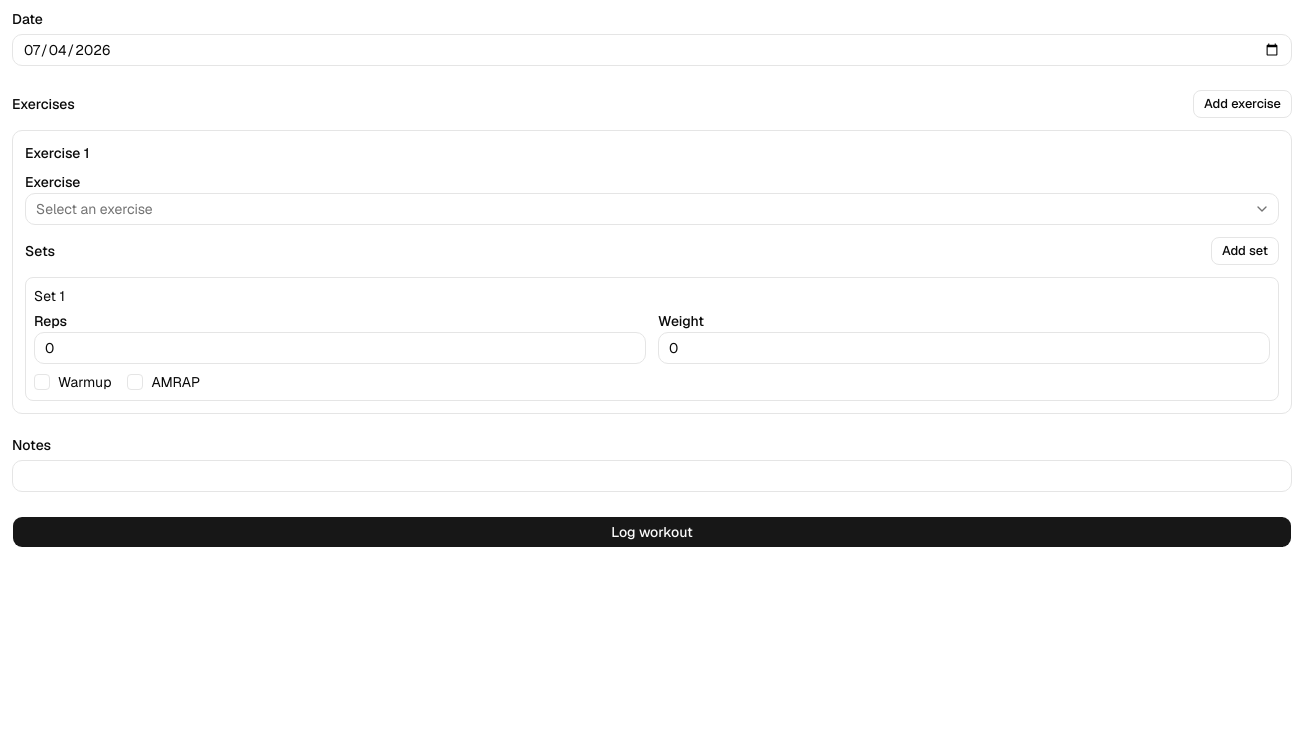
it: LogWorkoutForm › supports adding and removing both exercises and sets
Click the button "Add exercise": {"x": 1242, "y": 104} [1193, 90, 1292, 118]
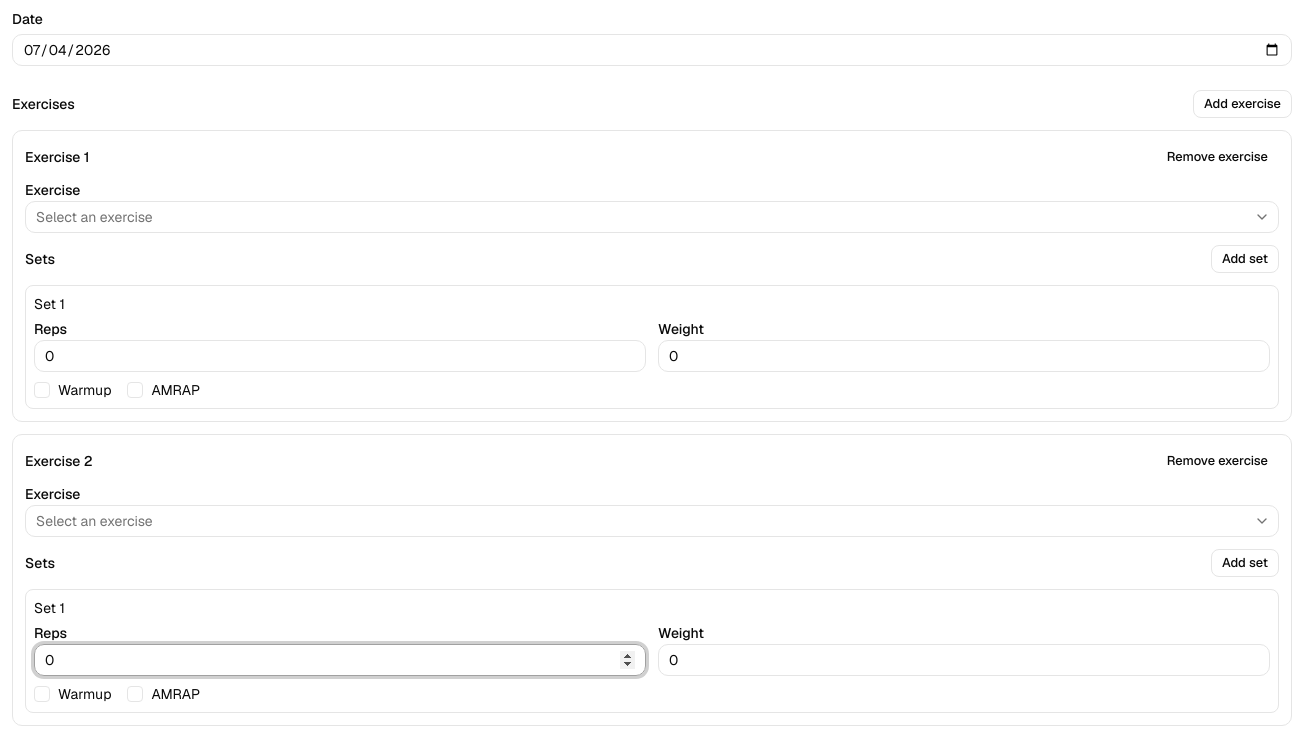
Now the text "Exercise 1" is shown 2 times, box [25, 147, 90, 167]; [25, 451, 93, 471]
Click the 1st button "Add set": {"x": 1245, "y": 259} [1211, 245, 1279, 273]
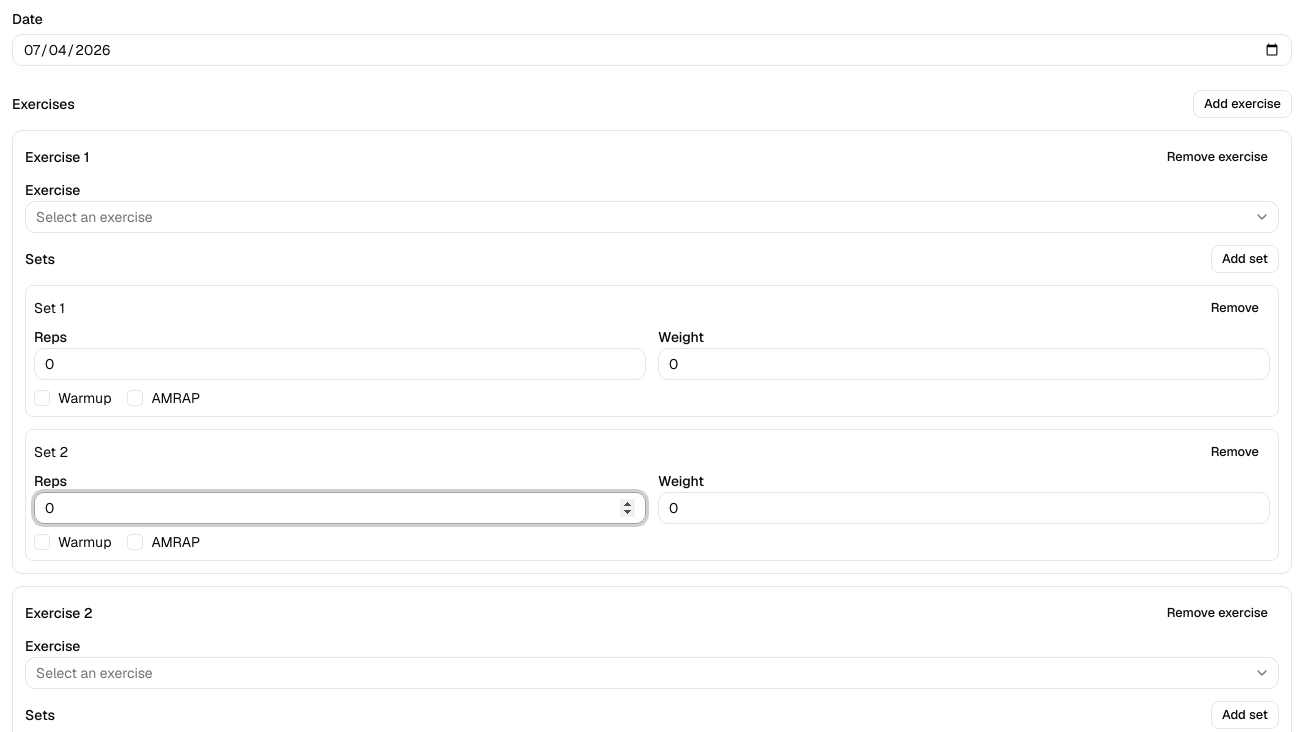
Now the text "Set 1" is shown 2 times, box [34, 298, 65, 318]; [34, 442, 68, 462]
Click the button with aria-label "remove set 2": {"x": 1235, "y": 452} [1200, 438, 1270, 466]
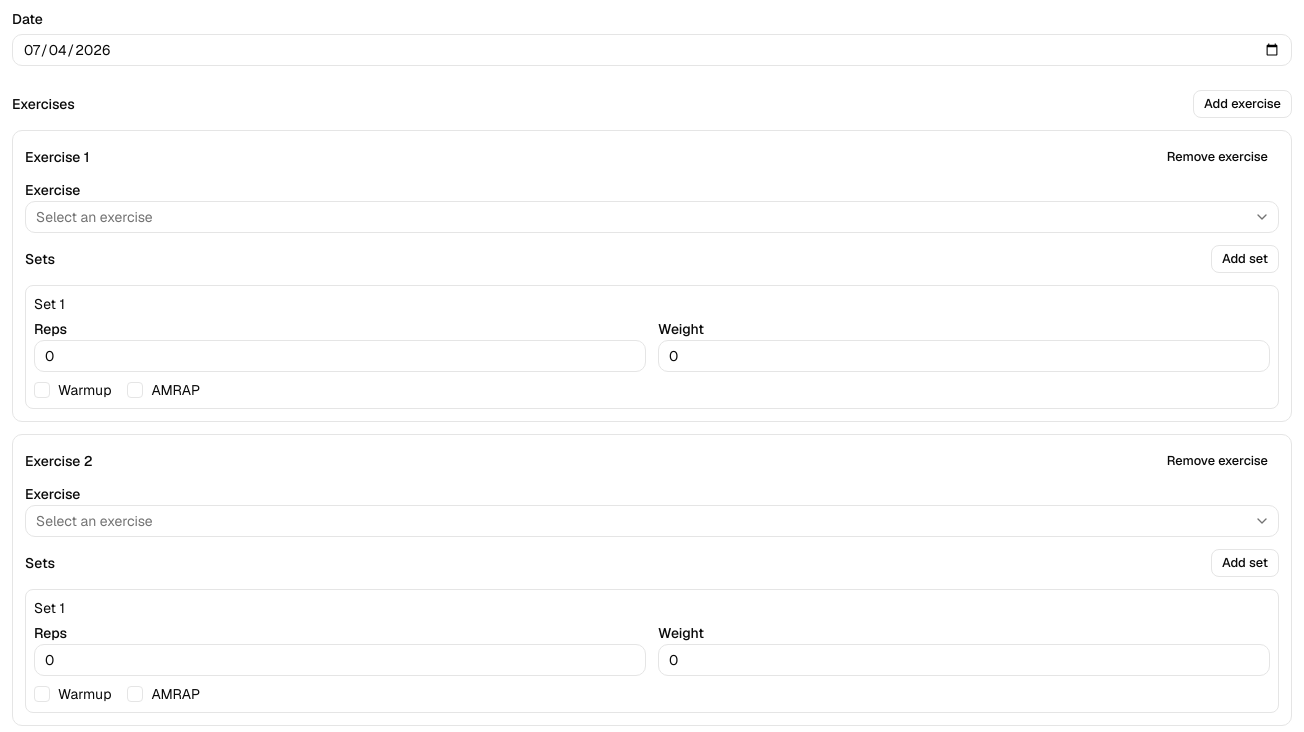
Now the text "Set 1" is shown once, box [34, 294, 65, 314]
Click the button with aria-label "remove exercise 2": {"x": 1217, "y": 461} [1156, 447, 1279, 475]
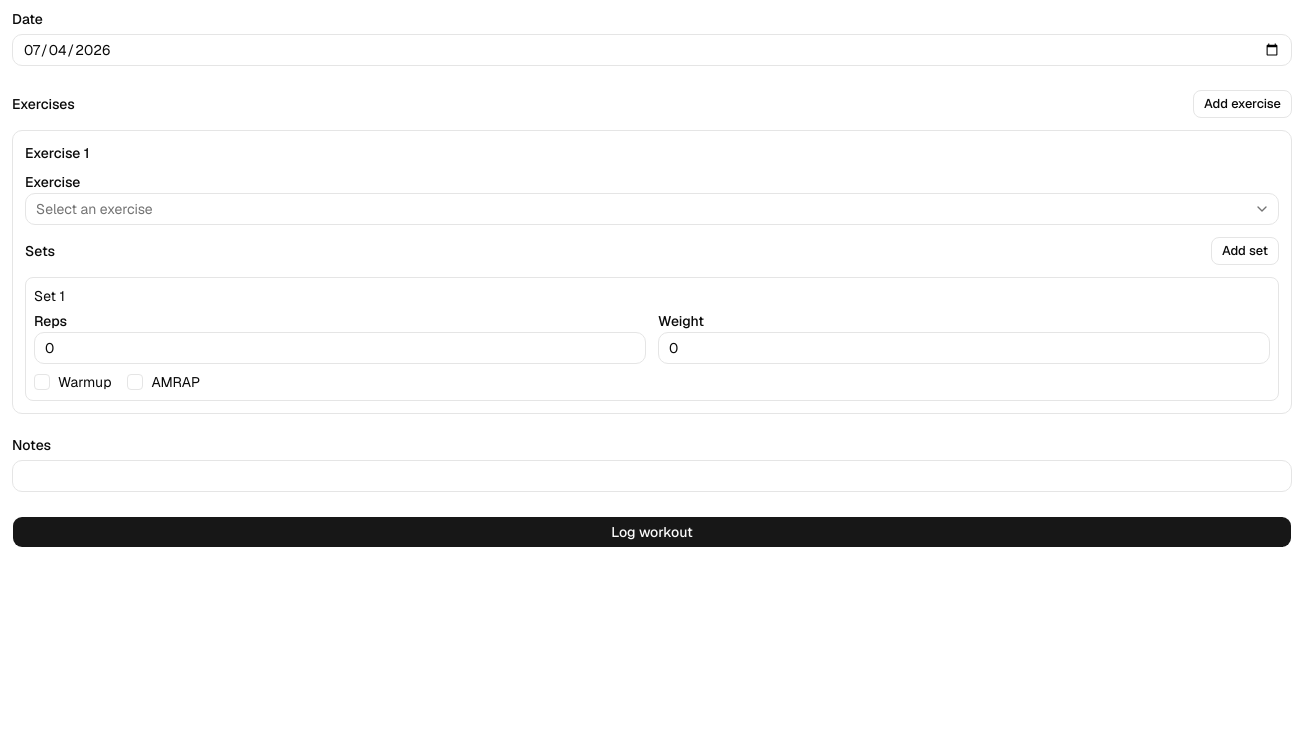
Now the text "Exercise 1" is shown once, box [25, 143, 90, 163]
